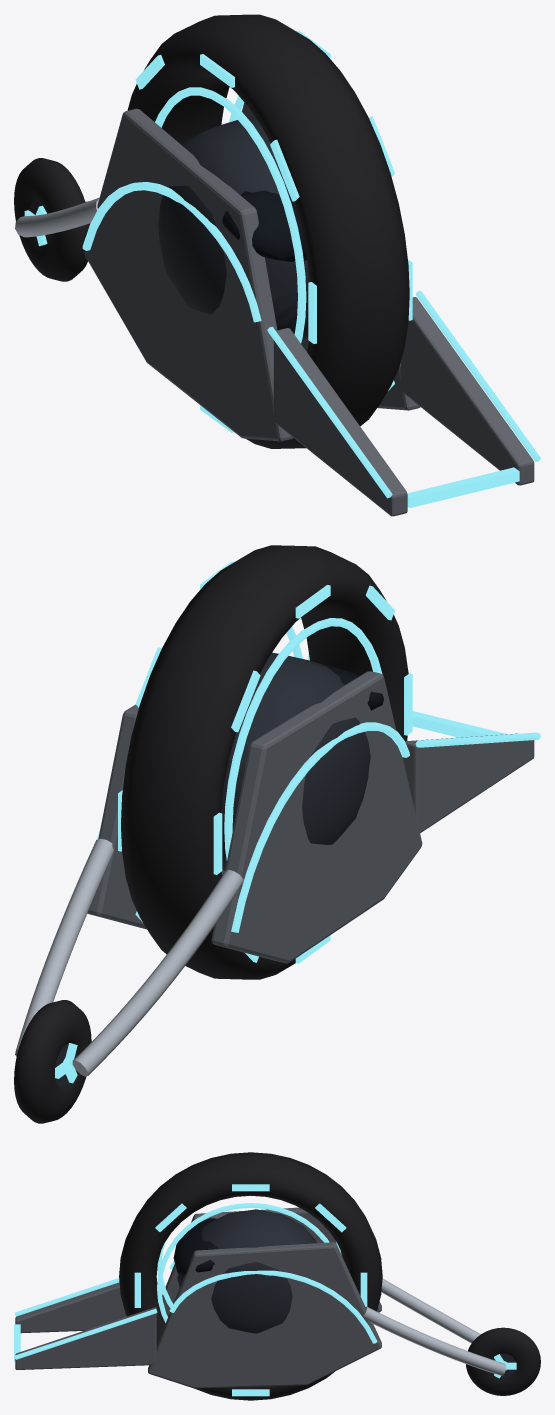
Rendered from cycle-bulwark.glb.
3 views of the same model, one above another, from view 1: azimuth 30°, elevation 25°; view 2: azimuth 150°, elevation 25°; view 3: azimuth 270°, elevation 25° (orthographic). The views are drawn at different scales.
Parts seen in each view (by area): view 1: WheelMain, Armor, Body, Trim, WheelRear, Glass, Metal; view 2: WheelMain, Armor, Body, Metal, WheelRear, Trim; view 3: Armor, WheelMain, Body, WheelRear, Metal, Trim, Glass.
Part boxes in pixels (x1,y1,x2,y2): WheelMain: [127, 14, 412, 448]; Armor: [84, 102, 534, 516]; Body: [158, 116, 309, 339]; Trim: [82, 182, 540, 507]; WheelRear: [14, 158, 90, 281]; Glass: [222, 190, 307, 261]; Metal: [15, 197, 99, 237]; WheelMain: [118, 545, 412, 979]; Armor: [87, 671, 534, 963]; Body: [220, 652, 370, 870]; Metal: [15, 838, 243, 1076]; WheelRear: [14, 1000, 91, 1123]; Trim: [97, 711, 540, 932]; Armor: [15, 1207, 381, 1388]; WheelMain: [119, 1152, 382, 1400]; Body: [177, 1209, 316, 1333]; WheelRear: [466, 1327, 540, 1395]; Metal: [363, 1278, 506, 1375]; Trim: [14, 1260, 377, 1361]; Glass: [173, 1218, 217, 1275].
Bounding box in the file's own units: 0.5923 × 1.4 × 2.8.
